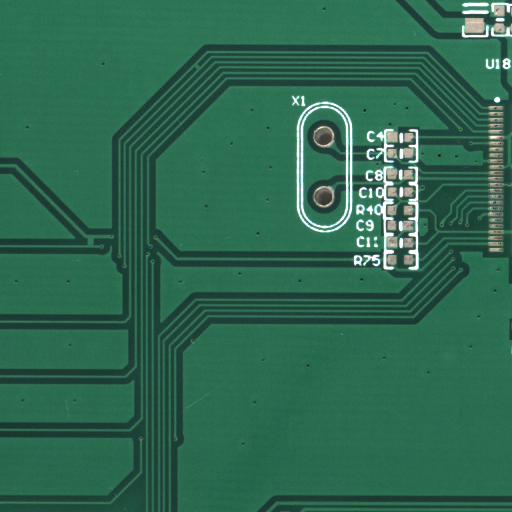Short: (90, 241, 101, 253), (197, 66, 205, 75)
